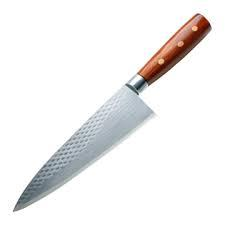Knife: (12, 12, 212, 212)
